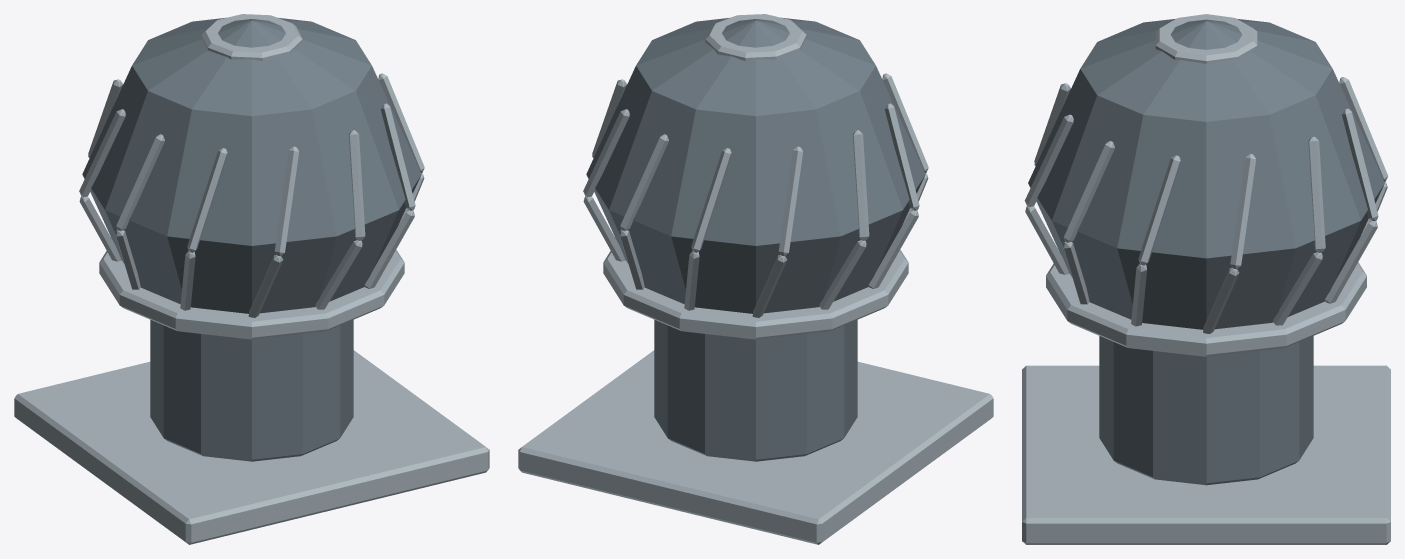
The model's file is b05_wind_turbine_roof_vent.glb.
3 renders of one model, left to right at view 1: azimuth 30°, elevation 25°; view 2: azimuth 150°, elevation 25°; view 3: azimuth 270°, elevation 25°, orthographic. The views are drawn at different scales.
Parts seen in each view (by area): view 1: b05_wind_turbine_roof_vent; view 2: b05_wind_turbine_roof_vent; view 3: b05_wind_turbine_roof_vent.
Part boxes in pixels (bbox=[...]): b05_wind_turbine_roof_vent: bbox=[14, 14, 489, 544]; b05_wind_turbine_roof_vent: bbox=[518, 14, 993, 544]; b05_wind_turbine_roof_vent: bbox=[1022, 14, 1390, 544].
Bounding box in the file's own units: 0.62 × 0.83 × 0.62.
